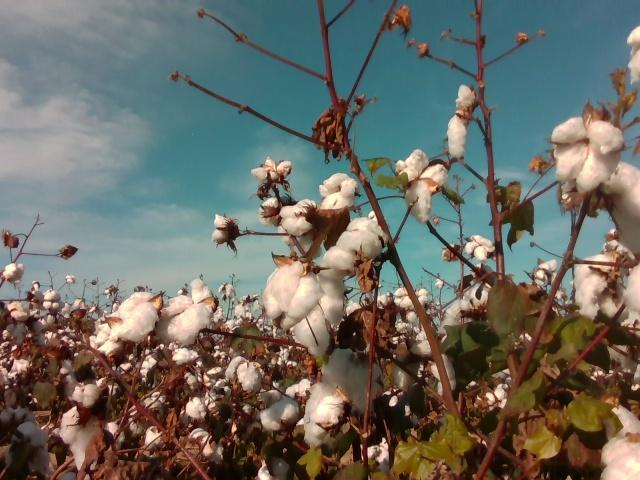cotton_ready: (551, 118, 626, 193), (292, 274, 350, 361), (319, 212, 389, 279), (322, 350, 381, 416), (163, 280, 220, 345), (266, 260, 320, 328), (399, 151, 448, 223), (60, 409, 106, 480), (576, 256, 625, 320), (606, 166, 640, 252), (601, 407, 640, 480), (302, 385, 345, 449), (4, 420, 51, 478), (113, 290, 161, 343), (443, 285, 491, 330), (449, 85, 475, 159), (417, 351, 455, 398), (319, 172, 359, 210), (279, 198, 316, 239), (259, 399, 298, 432), (623, 260, 640, 334), (225, 357, 262, 390), (253, 158, 295, 179), (626, 26, 640, 84)
